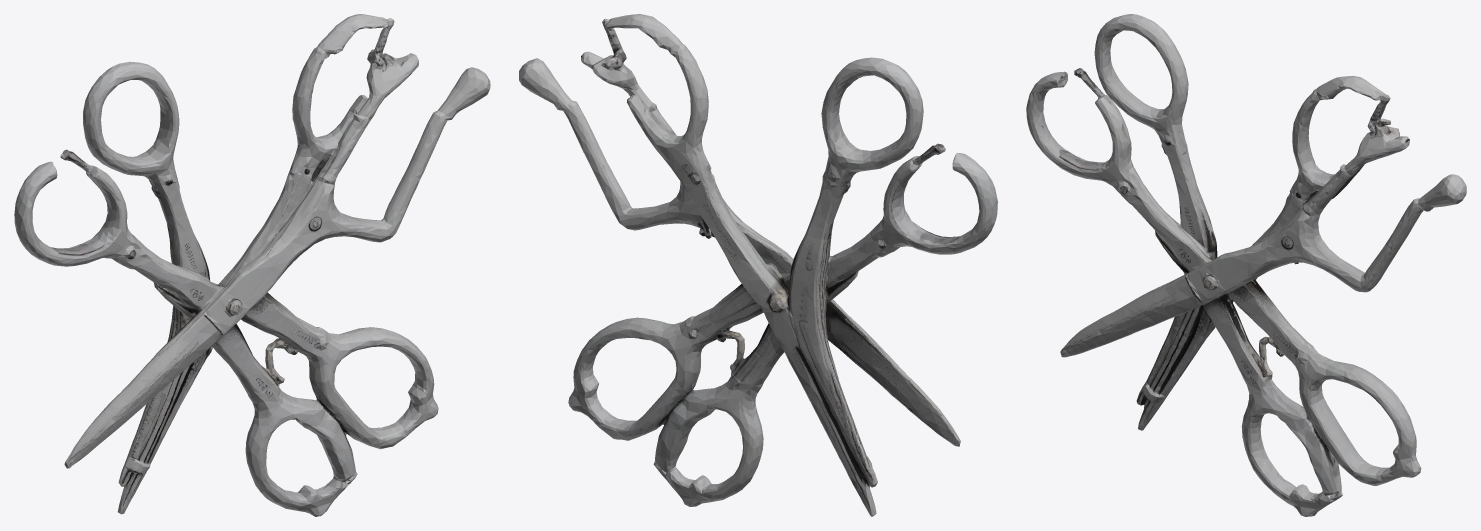
Rendered from foot (2).glb.
The picture shows the model from 3 angles, left to right: view 1: azimuth 30°, elevation 25°; view 2: azimuth 150°, elevation 25°; view 3: azimuth 330°, elevation 25°; orthographic projection. The views are drawn at different scales.
Visible parts, largest first — view 1: Hy21_Mesh.obj; view 2: Hy21_Mesh.obj; view 3: Hy21_Mesh.obj.
Boxes of the visible parts, box(x1,y1,x2,y2) form: Hy21_Mesh.obj: box(14, 14, 490, 516); Hy21_Mesh.obj: box(519, 14, 997, 516); Hy21_Mesh.obj: box(1026, 14, 1466, 516).
Bounding box in the file's own units: 1.96 × 1.96 × 0.2182.
Materials: 1 (1 with a texture image).
